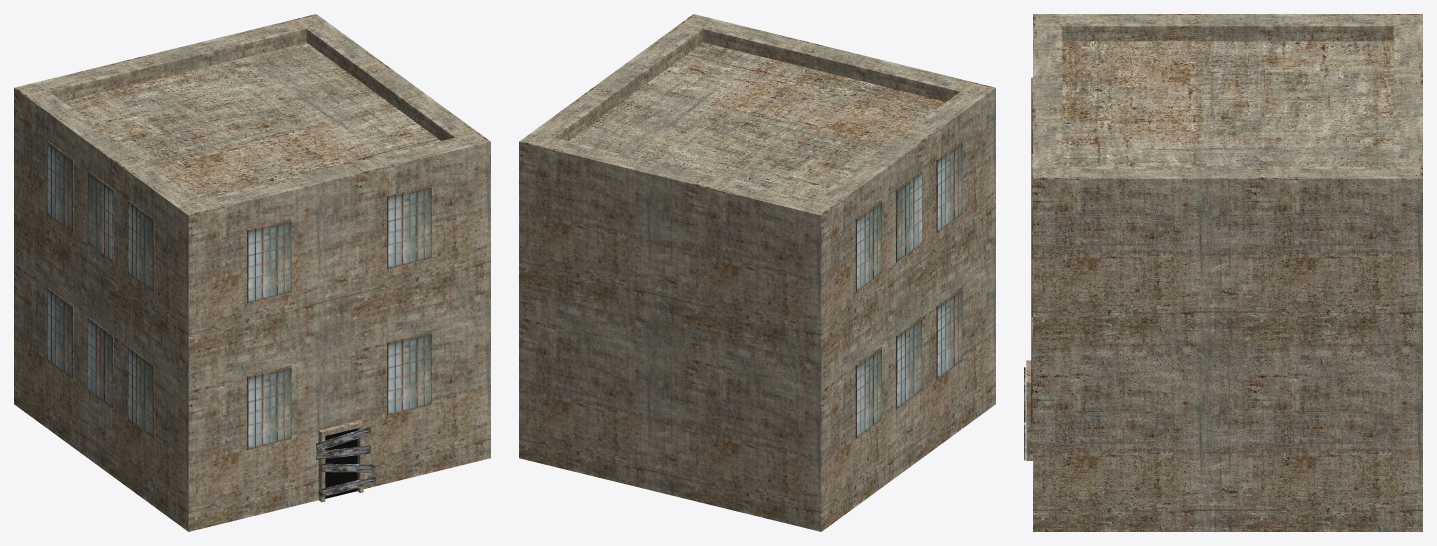
File: building_01.fbx
3 views of the same model, side by side, from view 1: azimuth 30°, elevation 25°; view 2: azimuth 150°, elevation 25°; view 3: azimuth 270°, elevation 25° (orthographic). The views are drawn at different scales.
Parts seen in each view (by area): view 1: building_01; view 2: building_01; view 3: building_01.
Part boxes in pixels (x1,y1,x2,y2): building_01: (14,14,490,531); building_01: (519,14,995,531); building_01: (1024,14,1422,531).
Bounding box in the file's own units: 11.28 × 11.24 × 11.5.
